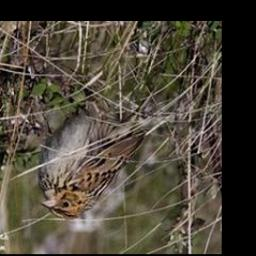Sparrow: (33, 90, 195, 220)
